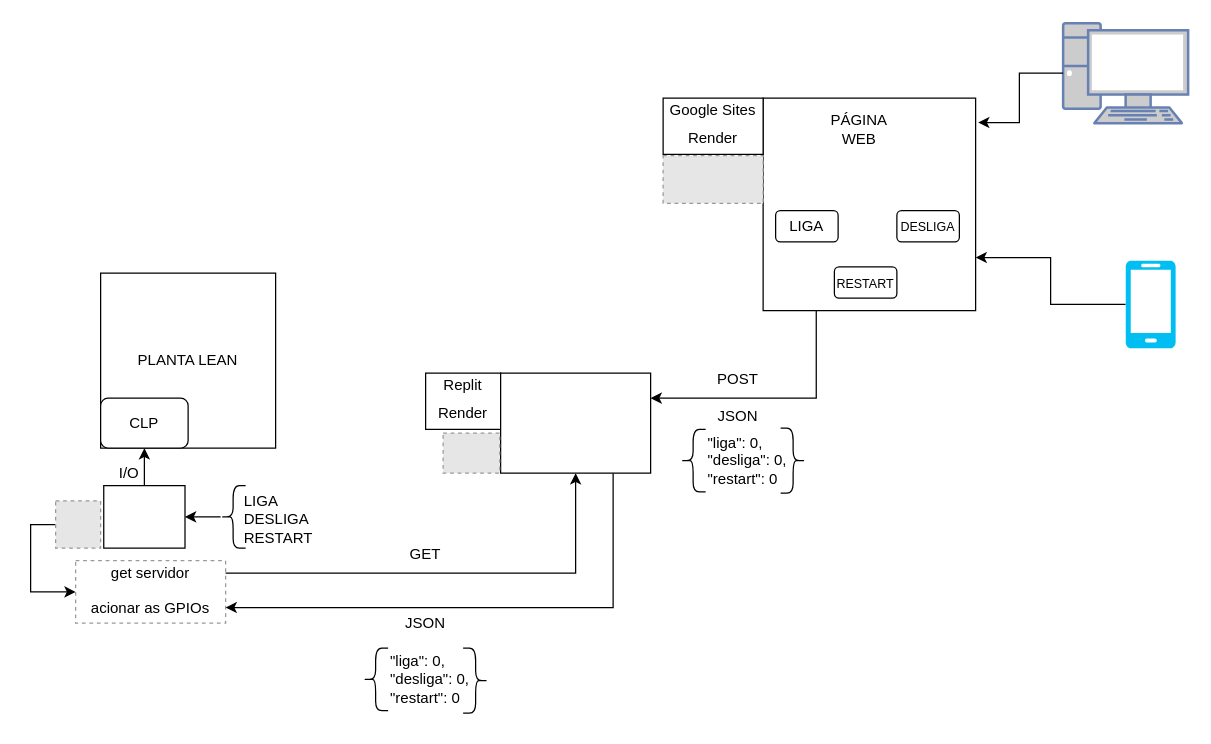
Image size: 1211x744. Some labels were removed from this diagram. Grey dashed boxes stand in for pictures. The shapes that lost their labels are listed below. From the top down, each one's centre as x and y in pixels, then its label:
pixel 575 422: WEB SERVER
pixel 143 516: RASP/IOT
